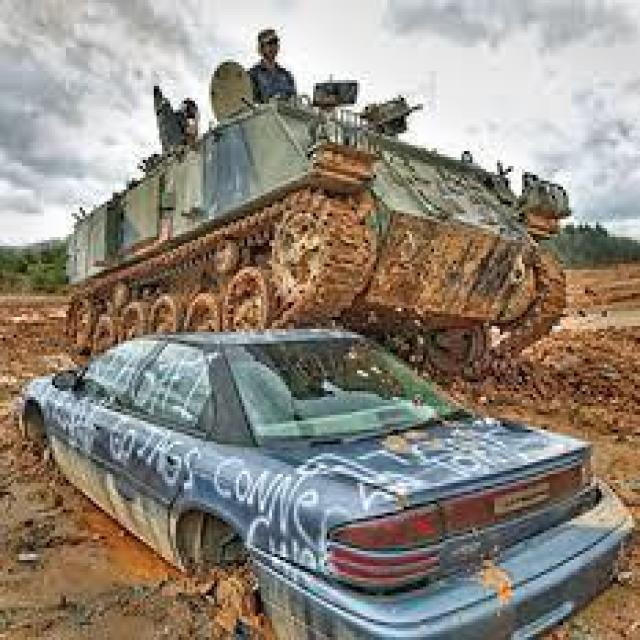Tanks: (69, 52, 602, 360)
